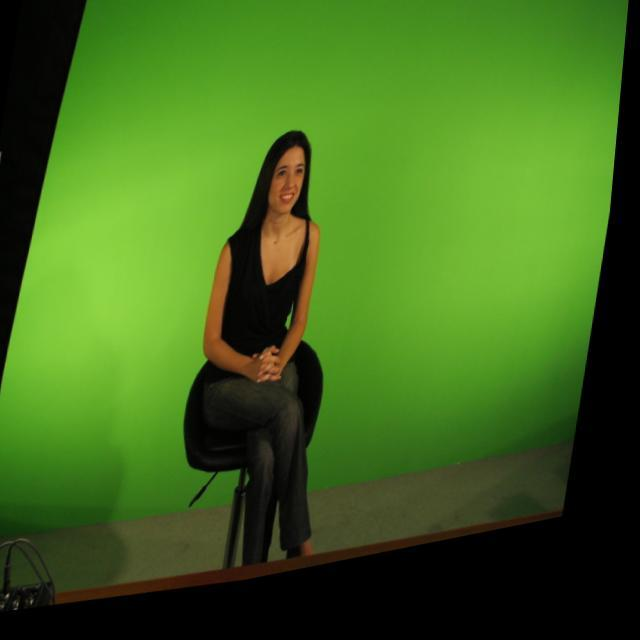Nonhelmet: (248, 119, 320, 220)
